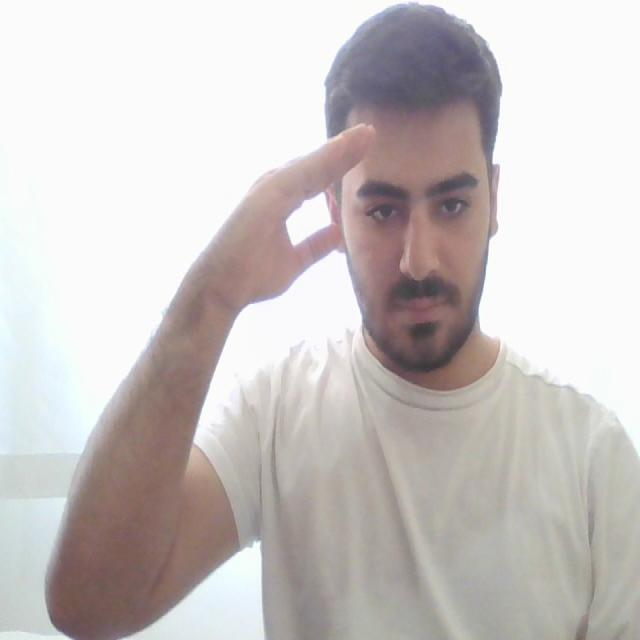Merhaba: (208, 70, 390, 330)
